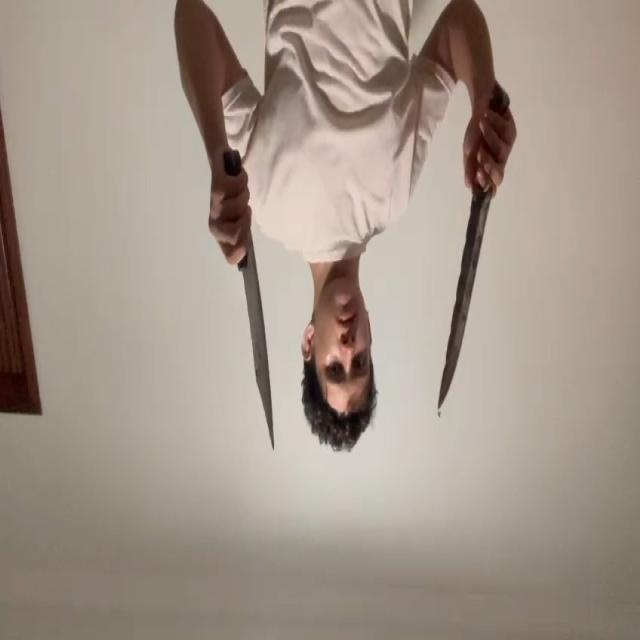knife: (440, 190, 490, 407), (239, 232, 274, 449)
